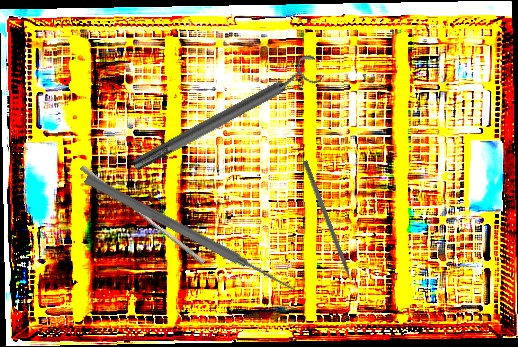Fixation Ring: (125, 51, 327, 180)
Hook Surgical: (301, 160, 358, 294)
Pusher: (82, 172, 299, 297), (76, 164, 209, 266)
